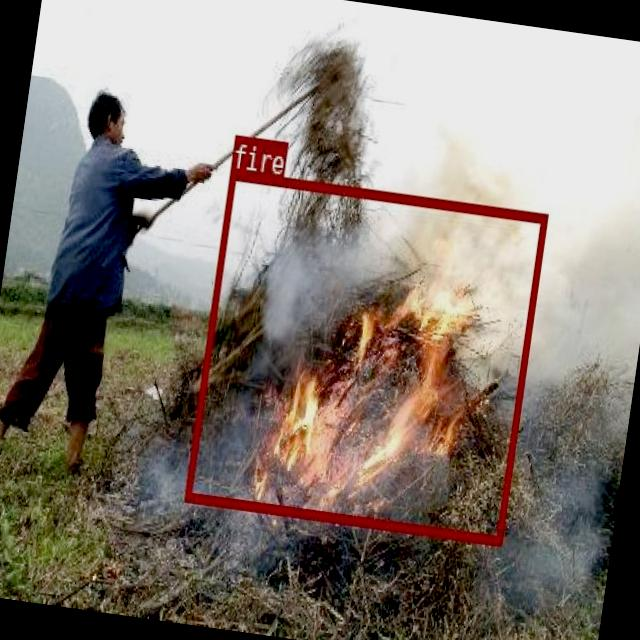fire: (184, 169, 546, 544)
